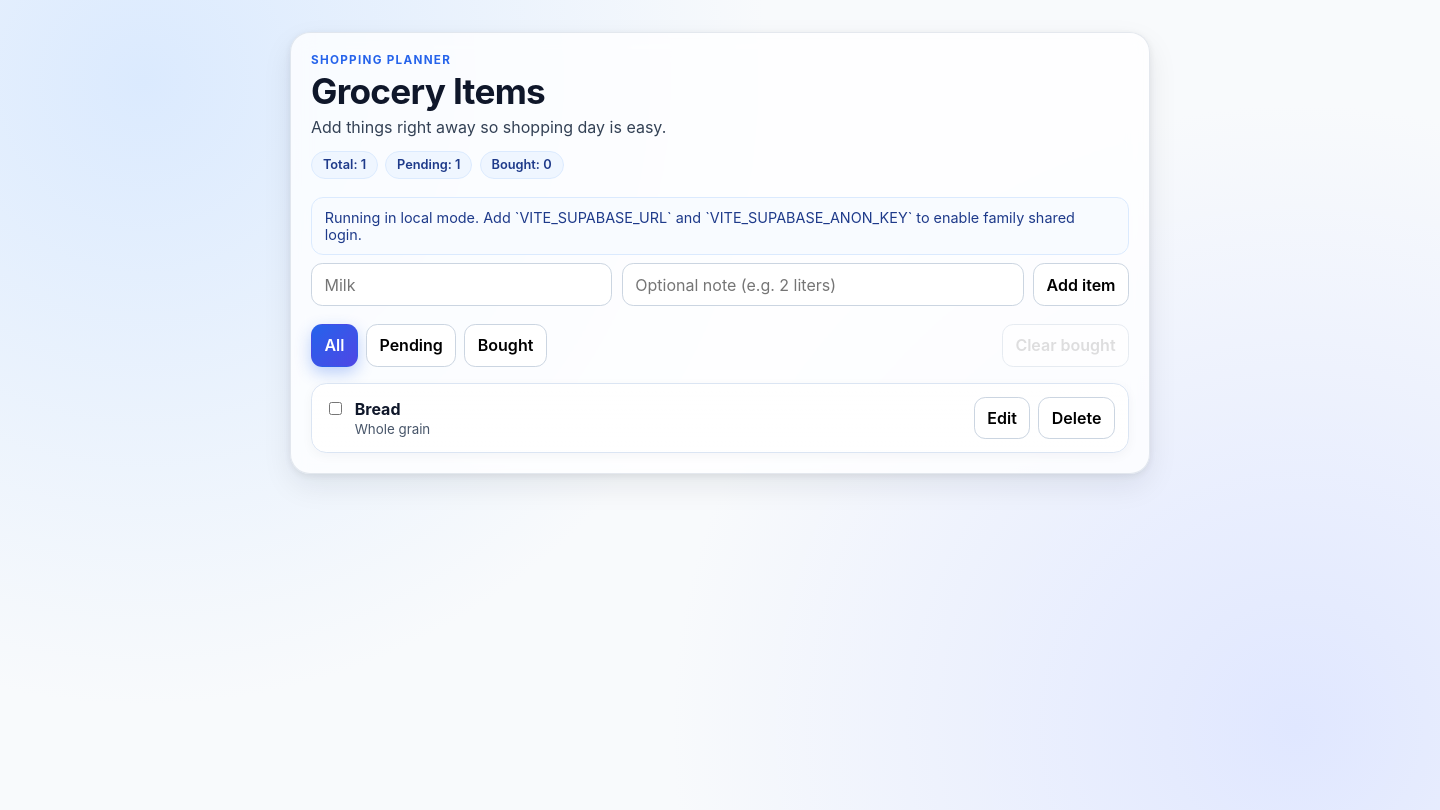
Test: Grocery App › edits and deletes an item
Click the button "Edit".
click(1002, 418)  # box [974, 397, 1030, 439]
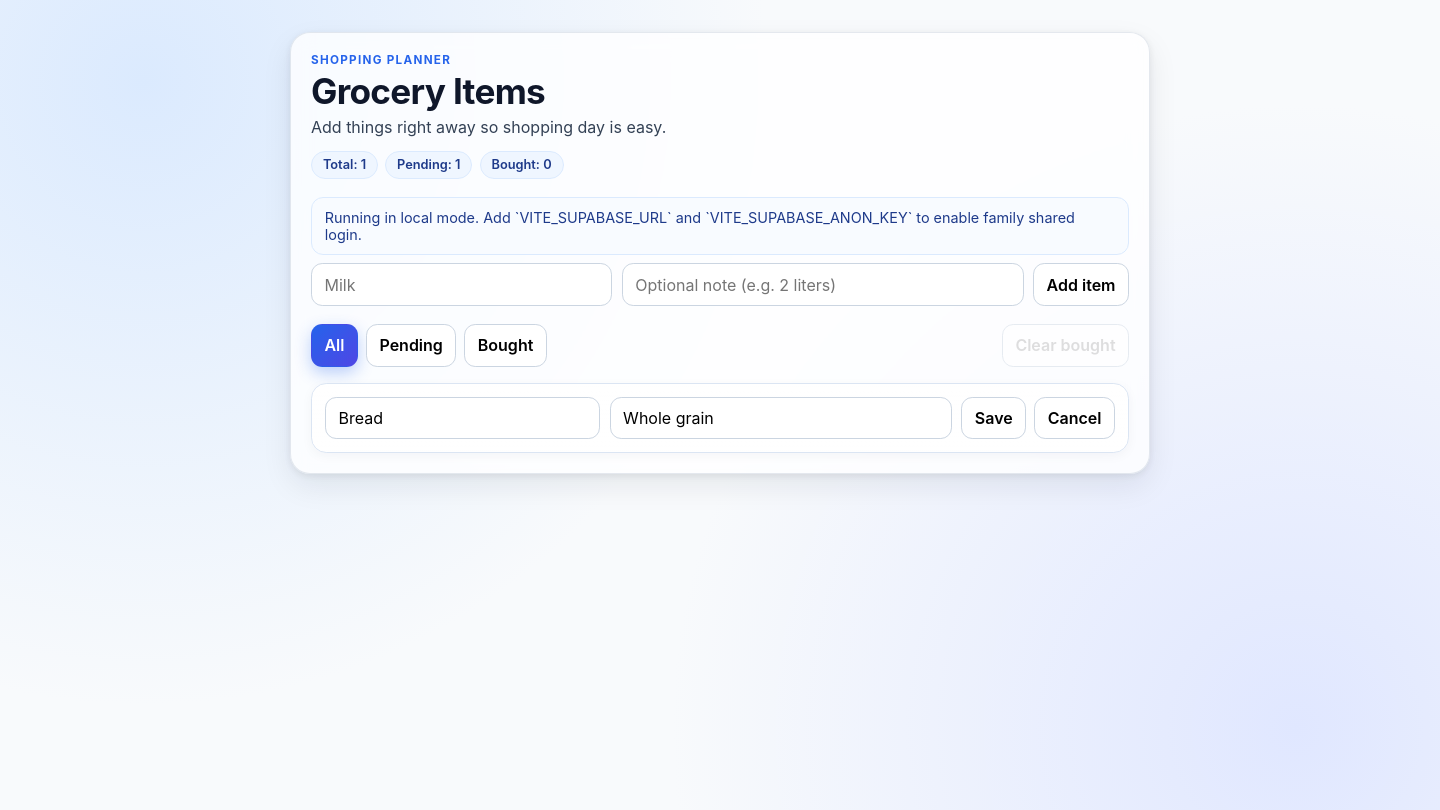
Replace the text in the field named "edit item name" with "Bread loaf" at coordinates (463, 418), box [325, 397, 600, 439]
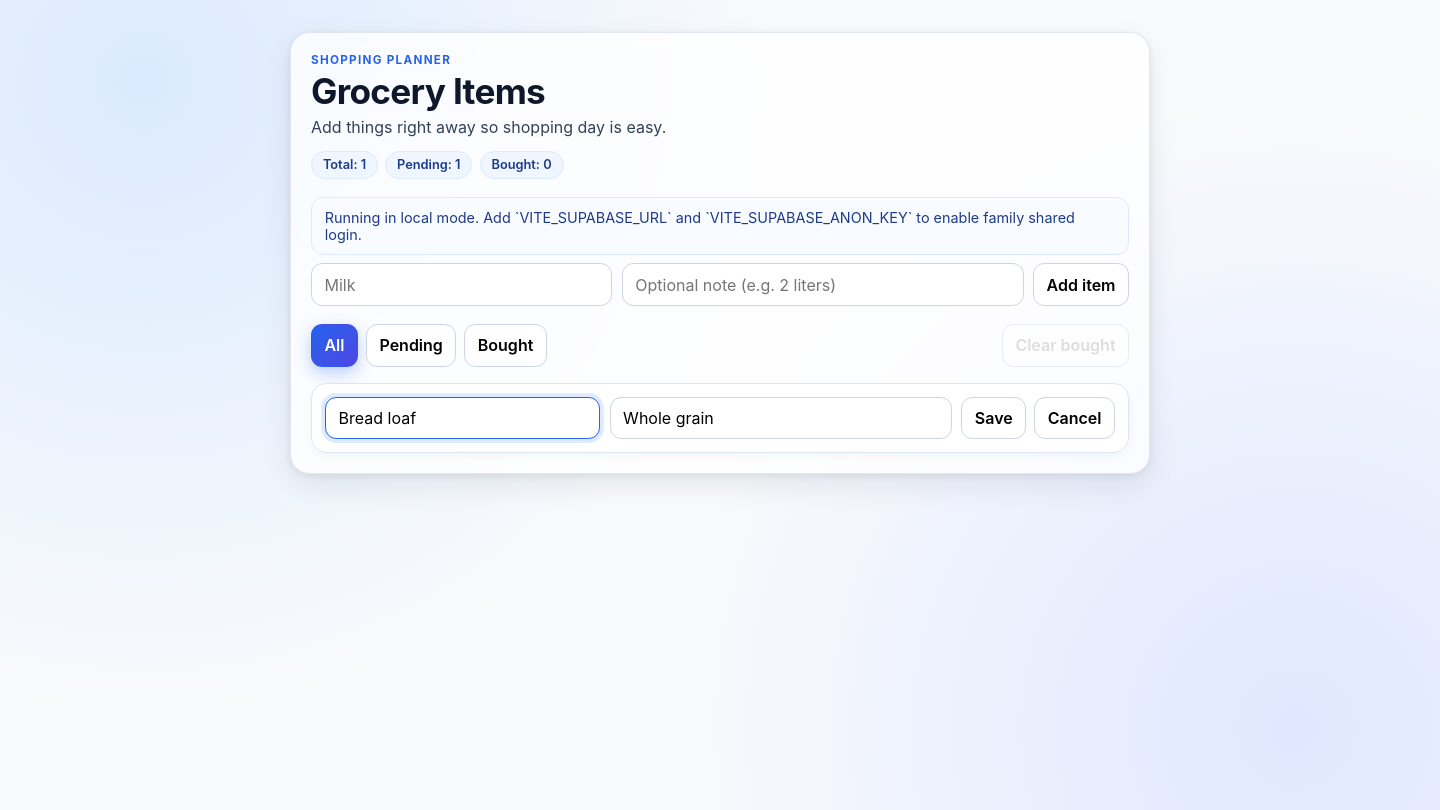
Click the button "Save".
click(994, 418)  # box [961, 397, 1026, 439]
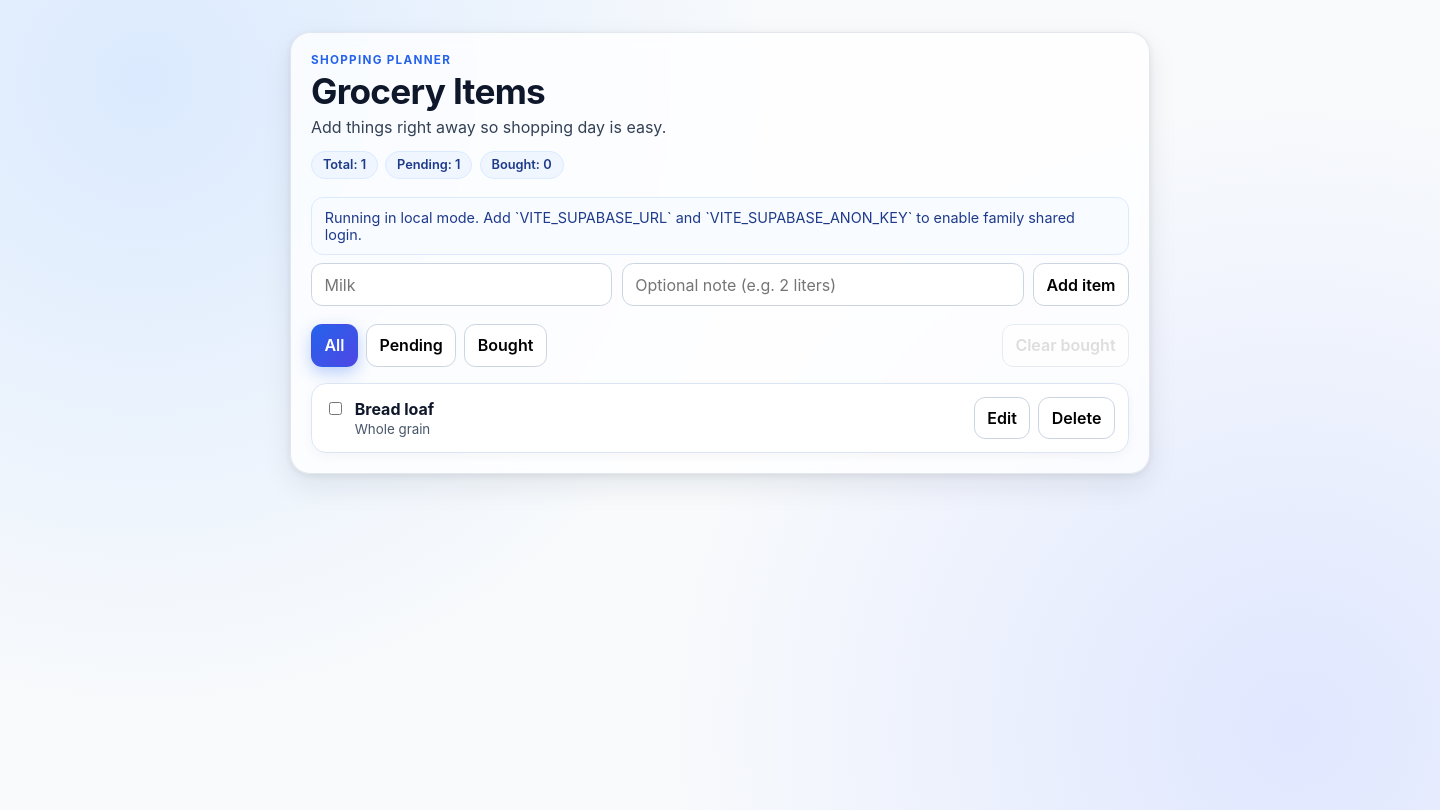
Check: the text "Bread loaf" is shown, box [355, 399, 434, 419]
Click the button "Delete".
click(1077, 418)  # box [1038, 397, 1115, 439]
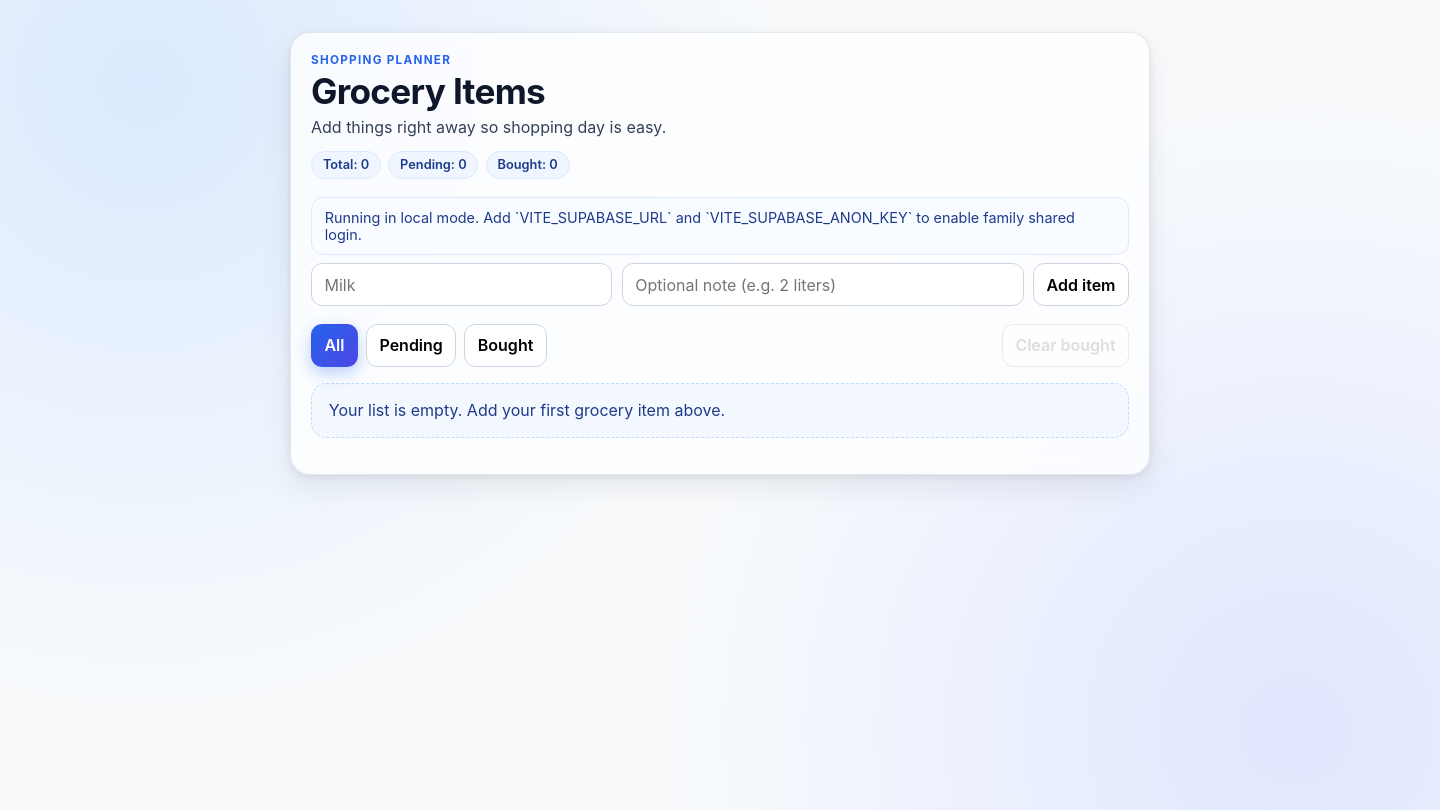
Check: the text "Bread loaf" is gone
